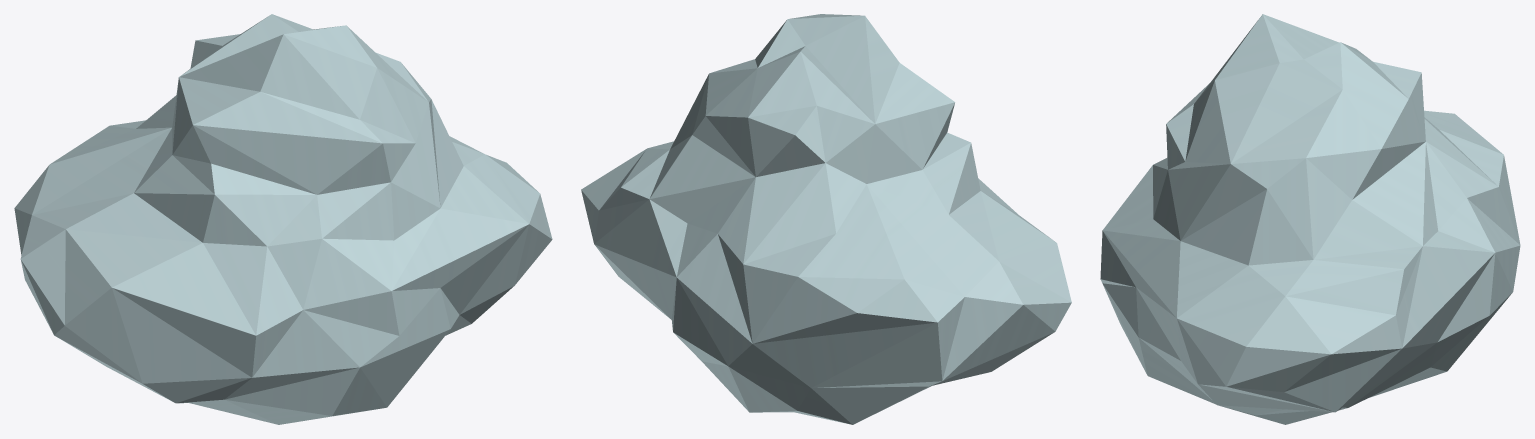
The model's file is Cloud_1.fbx.
3 renders of one model, left to right at view 1: azimuth 30°, elevation 25°; view 2: azimuth 150°, elevation 25°; view 3: azimuth 270°, elevation 25°, orthographic. The views are drawn at different scales.
Visible parts, largest first — view 1: Group15332; view 2: Group15332; view 3: Group15332.
Boxes of the visible parts, left/top/right/bottom form: Group15332: left=14, top=14, right=552, bottom=424; Group15332: left=581, top=14, right=1071, bottom=424; Group15332: left=1100, top=14, right=1520, bottom=424.
Bounding box in the file's own units: 782 × 613 × 605.
